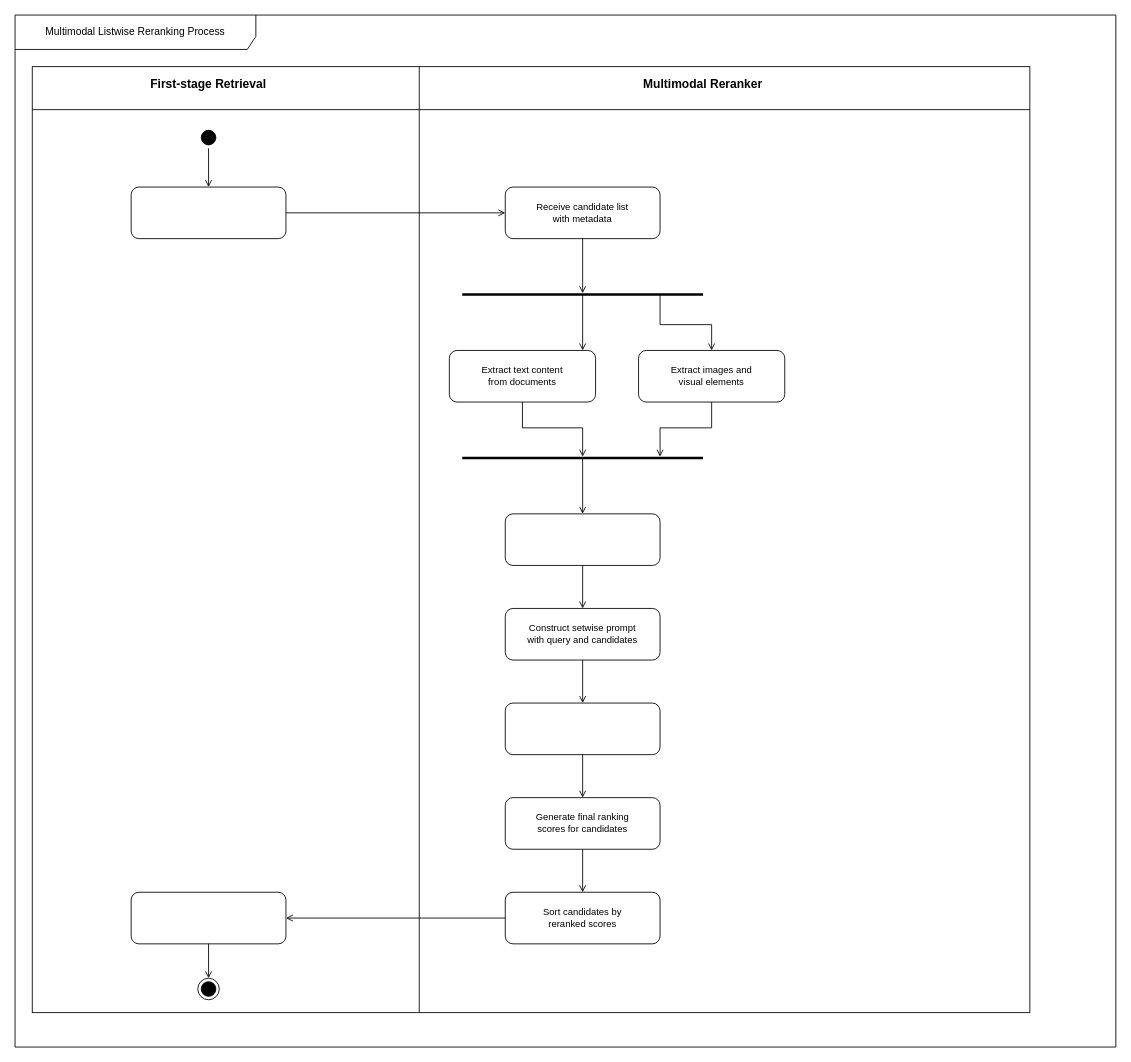
Image size: 1131x1062. Some labels were removed from this diagram. Here are the shapes that lost their labels. From the top down, the centre of each, then its label:
At [208,212]: "Receive top K candidates from hybrid retrieval".
At [582,539]: "Encode multimodal content with BLIP-2 VLM".
At [582,728]: "Perform listwise reasoning over cross-modal evidence".
At [208,917]: "Return reranked results to search interface".
